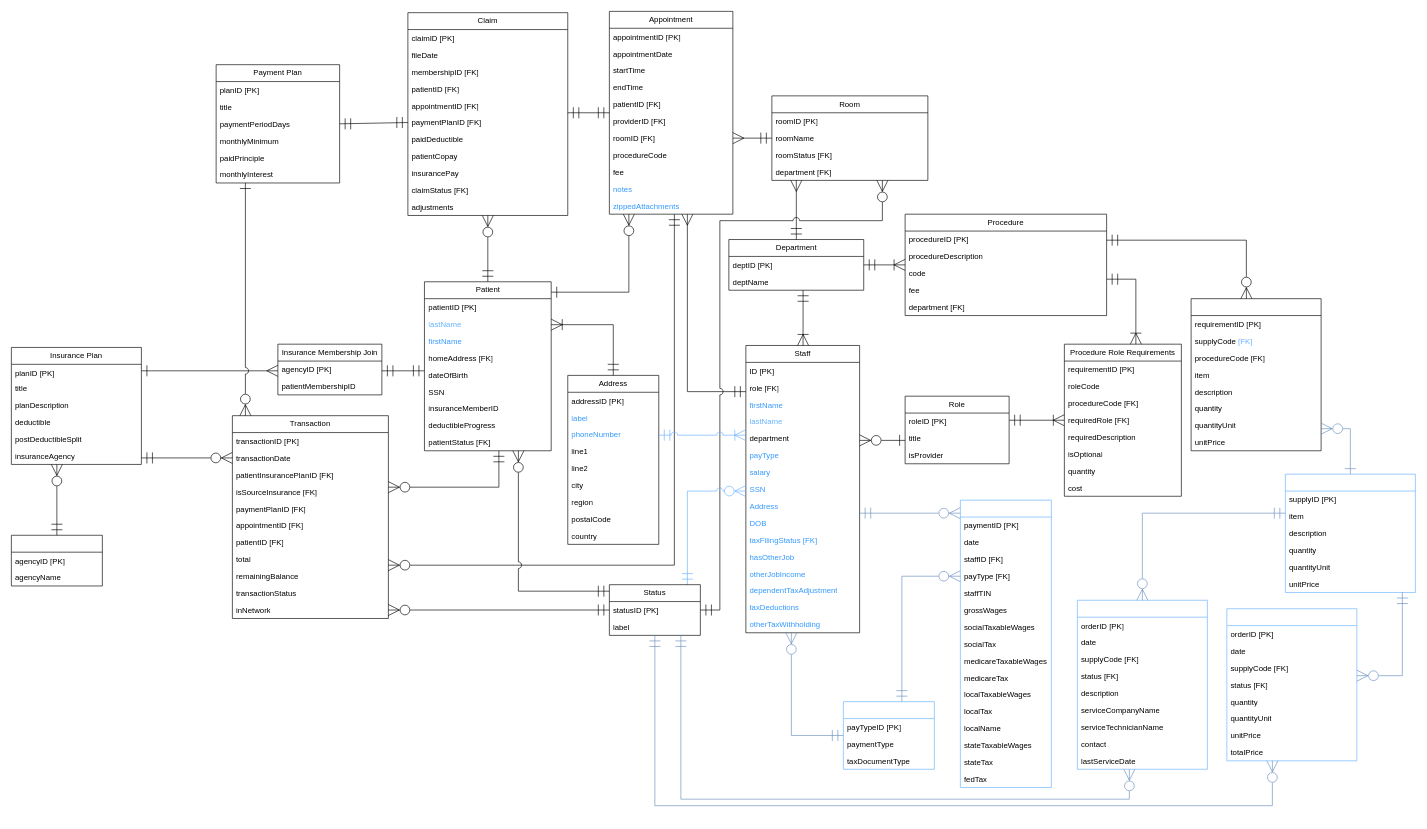
Some shapes in this 1427 by 829 pixel diagram are drawn without their labels. The shapes that lost their labels are listed below. From the top down, each one's box as (x1, y1, x2, y2) in pixels, then its label:
(1190, 298, 1321, 451): Procedure Supply Requirements
(1285, 474, 1415, 592): SupplyInventory
(11, 535, 102, 586): Insurance Agency
(960, 500, 1051, 787): Payroll
(1077, 600, 1207, 769): Work Orders
(1226, 608, 1357, 761): Purchase Orders
(843, 701, 934, 769): Pay Type Lookup Table
